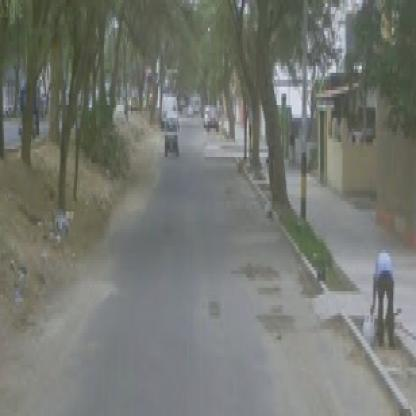Peaton: (371, 247, 395, 348)
Pista: (52, 112, 393, 414)
Vehiculo: (166, 115, 181, 157)
